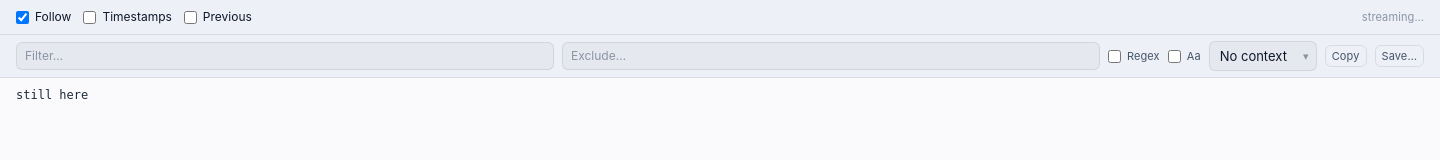
Test case: LogViewer › reports an invalid regex and keeps showing the log
This screenshot has width=1440, height=160.
Check: the text "still here" is shown, box [16,88,88,102]
Click the checkbox labelled "Regex": (1114, 56) [1108,50,1121,62]
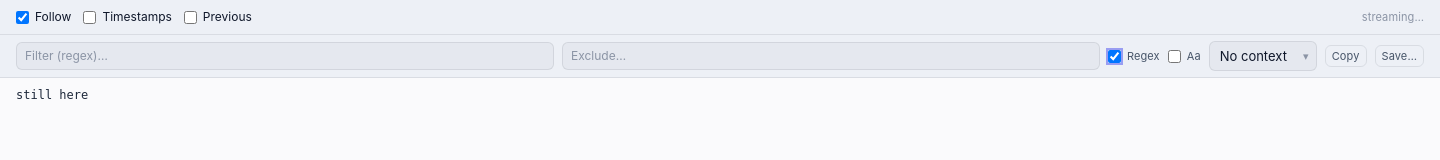
In the field named "Filter lines": (285, 56) [16,42,554,70], type "GET /(health"
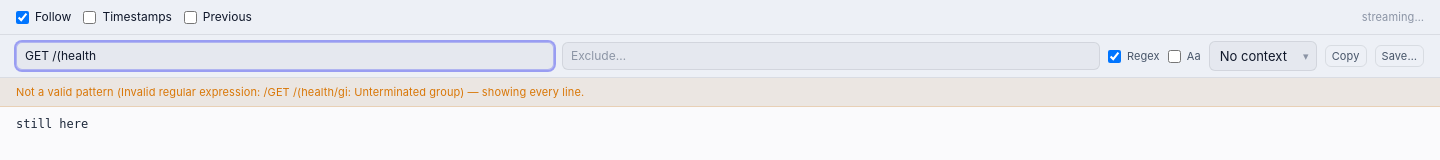
Check: the text "Not a valid pattern" is shown, box [16,85,121,99]
